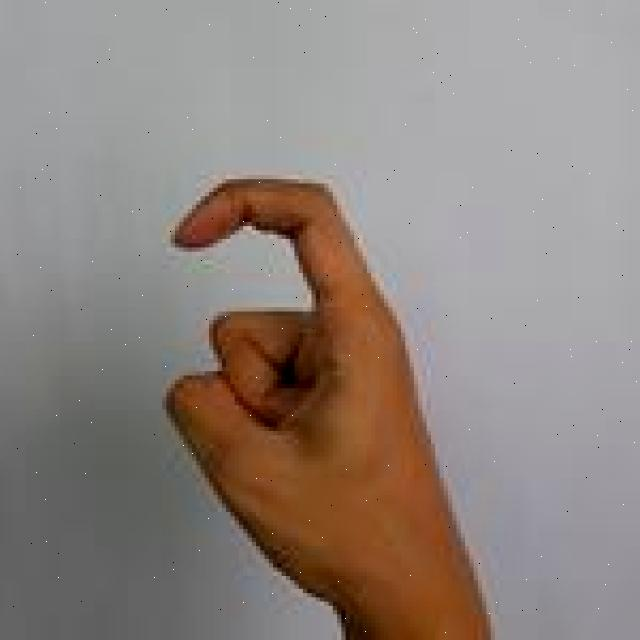X: (149, 170, 497, 640)
